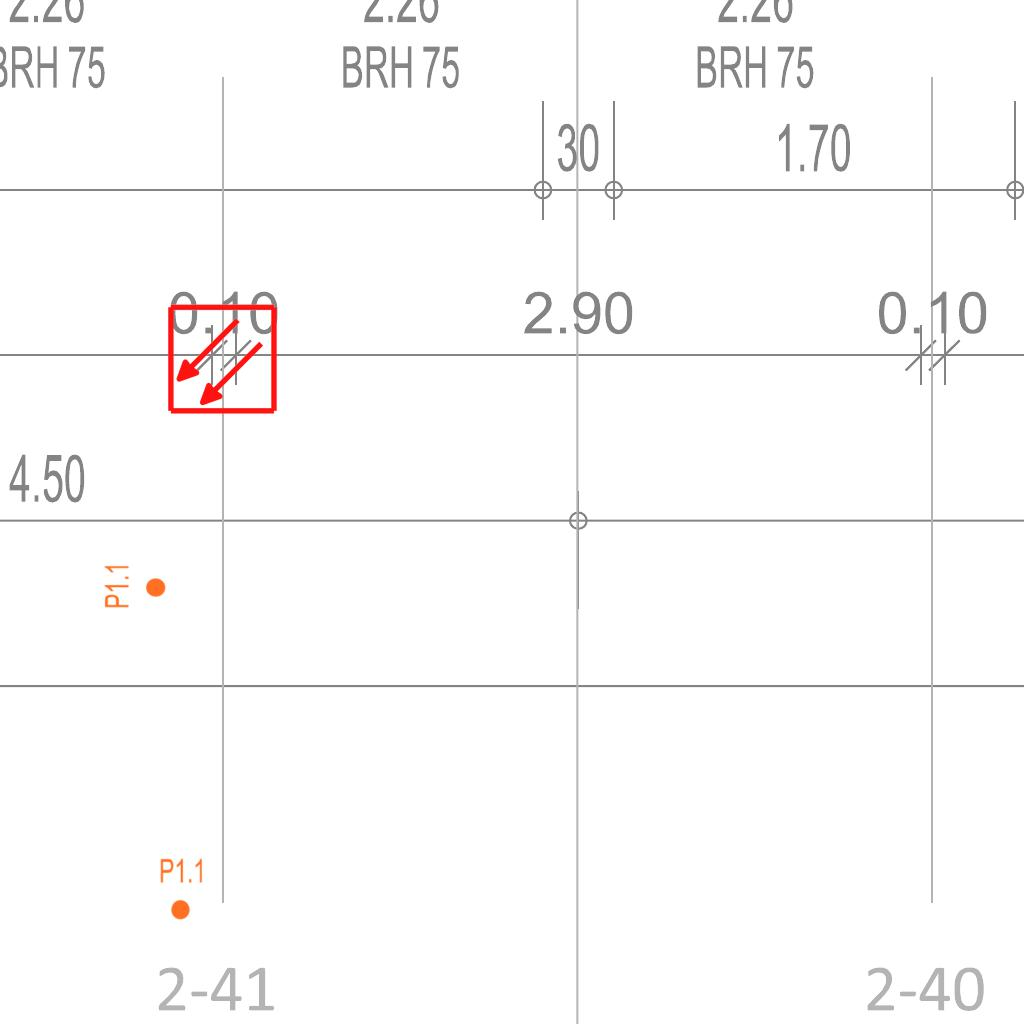Downlight_LED_Einbauleuchten_Flur: (159, 857, 205, 921), (103, 563, 167, 609)
RMO_Rauchmelder_optischer: (166, 303, 279, 416)
